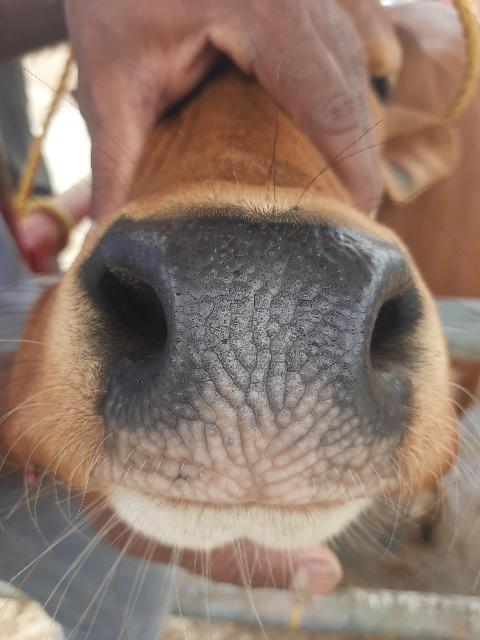Muzzle: (93, 228, 393, 496)
